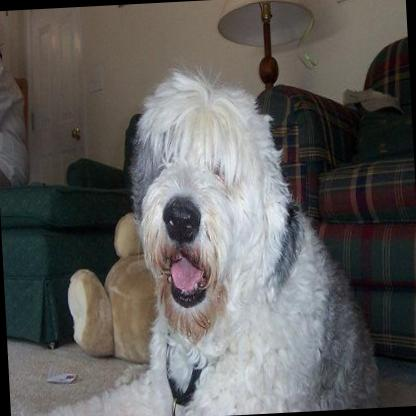Old_English_sheepdog: (0, 50, 384, 416)
